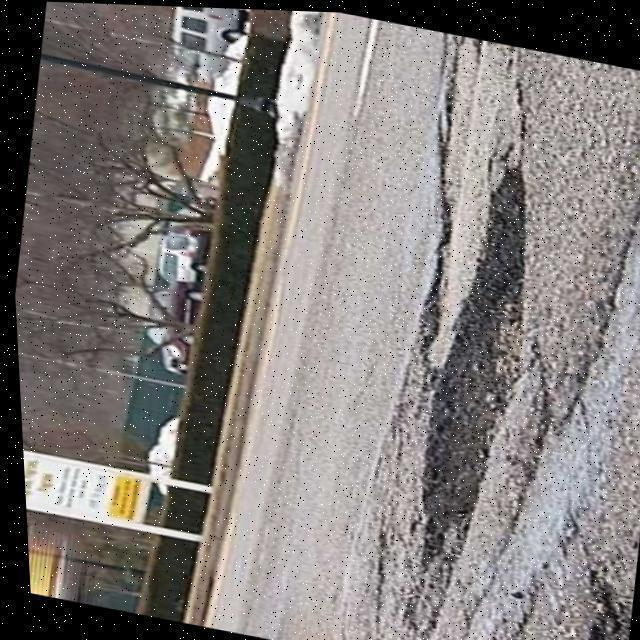Pothole: (413, 152, 526, 614), (412, 98, 454, 347), (581, 566, 624, 640)
